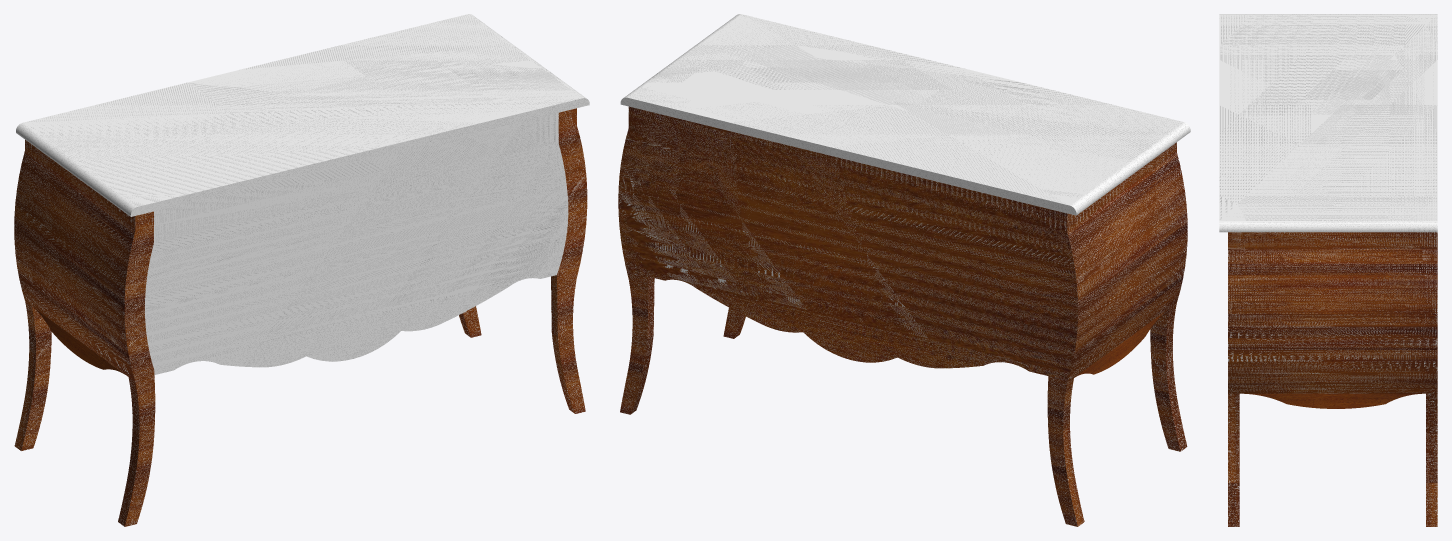
The picture shows the model from 3 angles, left to right: view 1: azimuth 30°, elevation 25°; view 2: azimuth 150°, elevation 25°; view 3: azimuth 270°, elevation 25°; orthographic projection. The views are drawn at different scales.
Visible parts, largest first — view 1: mesh1_mesh1-geometry; view 2: mesh1_mesh1-geometry; view 3: mesh1_mesh1-geometry.
Boxes of the visible parts, x1=… form: mesh1_mesh1-geometry: x1=14, y1=14, x2=589, y2=526; mesh1_mesh1-geometry: x1=618, y1=14, x2=1190, y2=526; mesh1_mesh1-geometry: x1=1219, y1=14, x2=1437, y2=526.
Bounding box in the file's own units: 0.7844 × 0.5206 × 0.3373.
